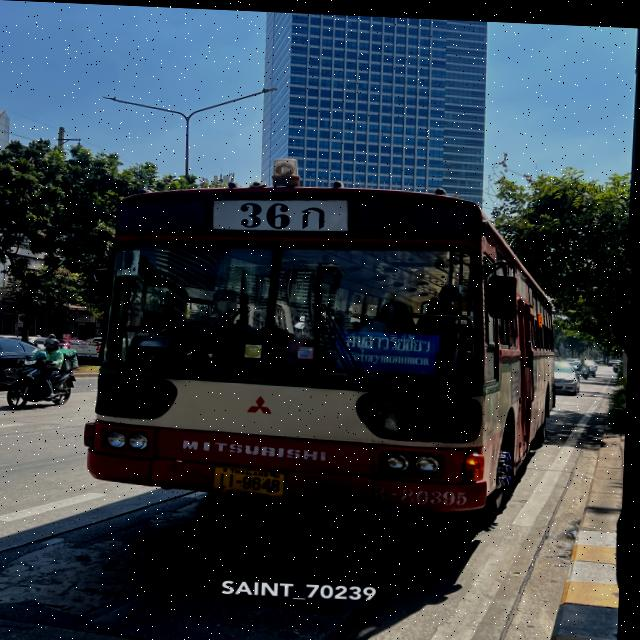BMTA-bus: (85, 173, 564, 516)
Bus-Line-Number: (215, 189, 347, 232)
Destination-Sign-Normal: (339, 326, 441, 372)
